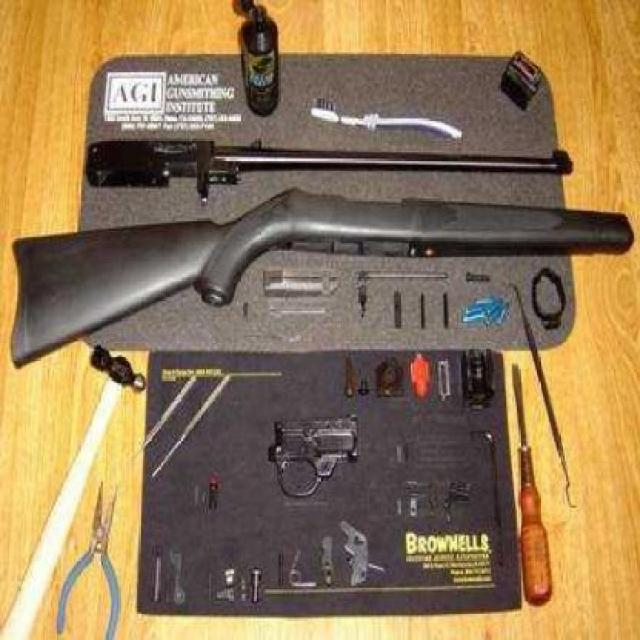weapon: (10, 186, 632, 373)
